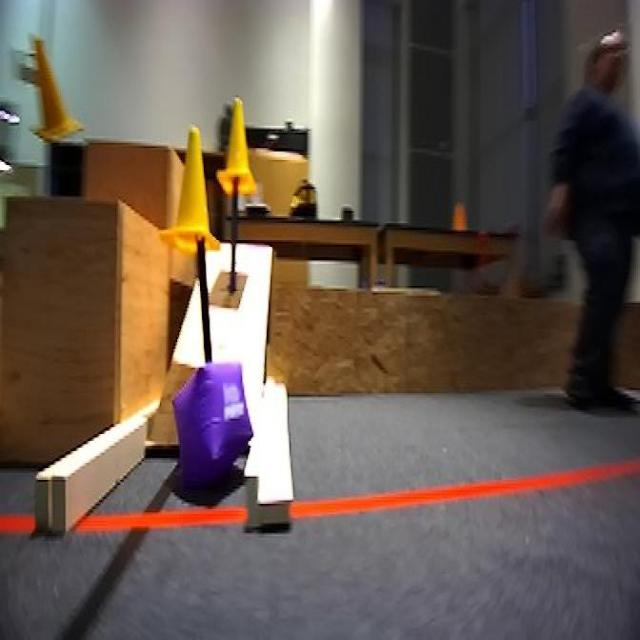frc_cone: (160, 122, 221, 255), (26, 29, 81, 145), (216, 95, 259, 194)
frc_cube: (177, 361, 256, 492)
